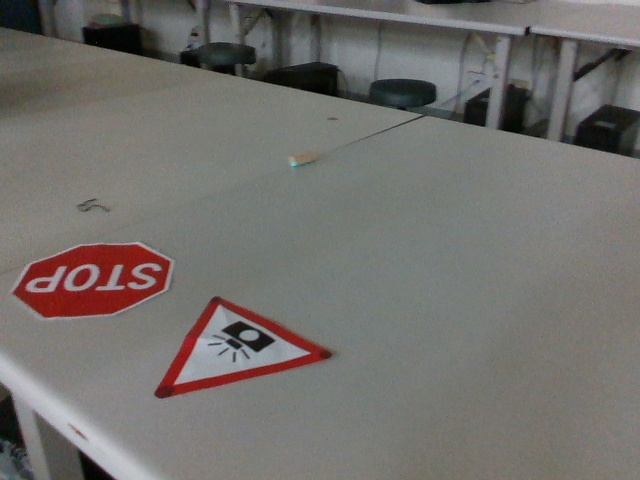camera: (152, 293, 334, 405)
stop: (16, 238, 174, 320)
